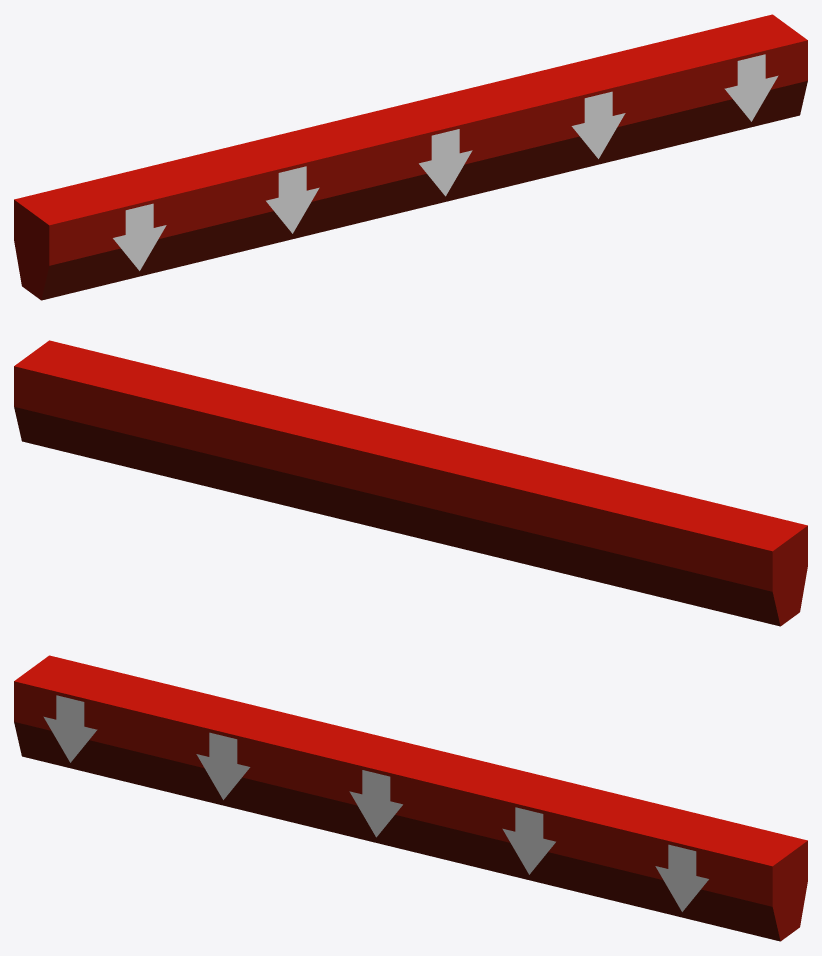
The model's file is avoid_bar.gltf.
The picture shows the model from 3 angles, top to bottom: view 1: azimuth 30°, elevation 25°; view 2: azimuth 150°, elevation 25°; view 3: azimuth 330°, elevation 25°; orthographic projection.
Visible parts, largest first — view 1: Cube, Plane.003, Plane, Plane.001, Plane.002, Plane.004; view 2: Cube; view 3: Cube, Plane.001, Plane, Plane.003, Plane.004, Plane.002.
Boxes of the visible parts, x1,y1,x2,y2 form: Cube: (14,14,807,300); Plane.003: (266,166,319,233); Plane: (419,129,472,196); Plane.001: (571,91,625,158); Plane.002: (724,54,778,121); Plane.004: (113,203,166,270); Cube: (14,340,807,626); Cube: (14,655,807,941); Plane.001: (502,807,555,874); Plane: (349,770,402,837); Plane.003: (196,732,250,799); Plane.004: (43,695,97,762); Plane.002: (655,844,708,911).
Size of the model in its own units: 12.4 by 1.47 by 1.48.
